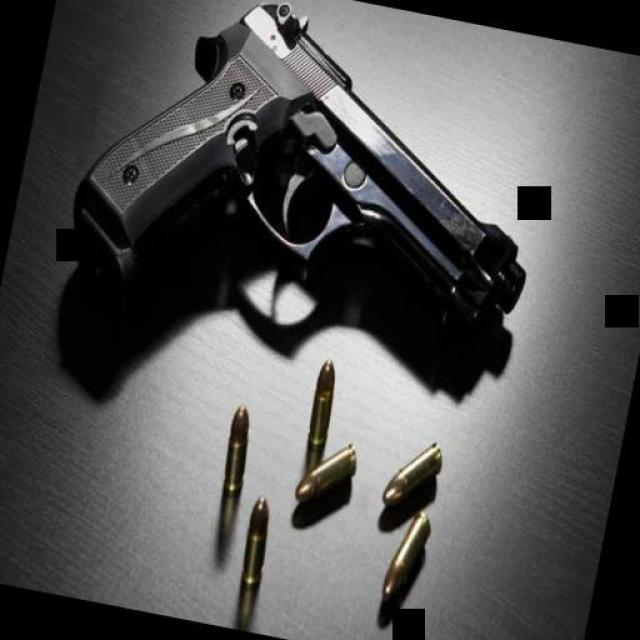gun: (46, 0, 580, 466)
